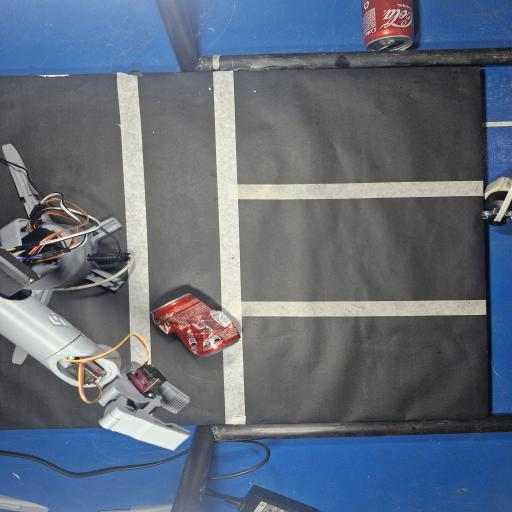lata_defectuoso: (152, 294, 240, 357)
